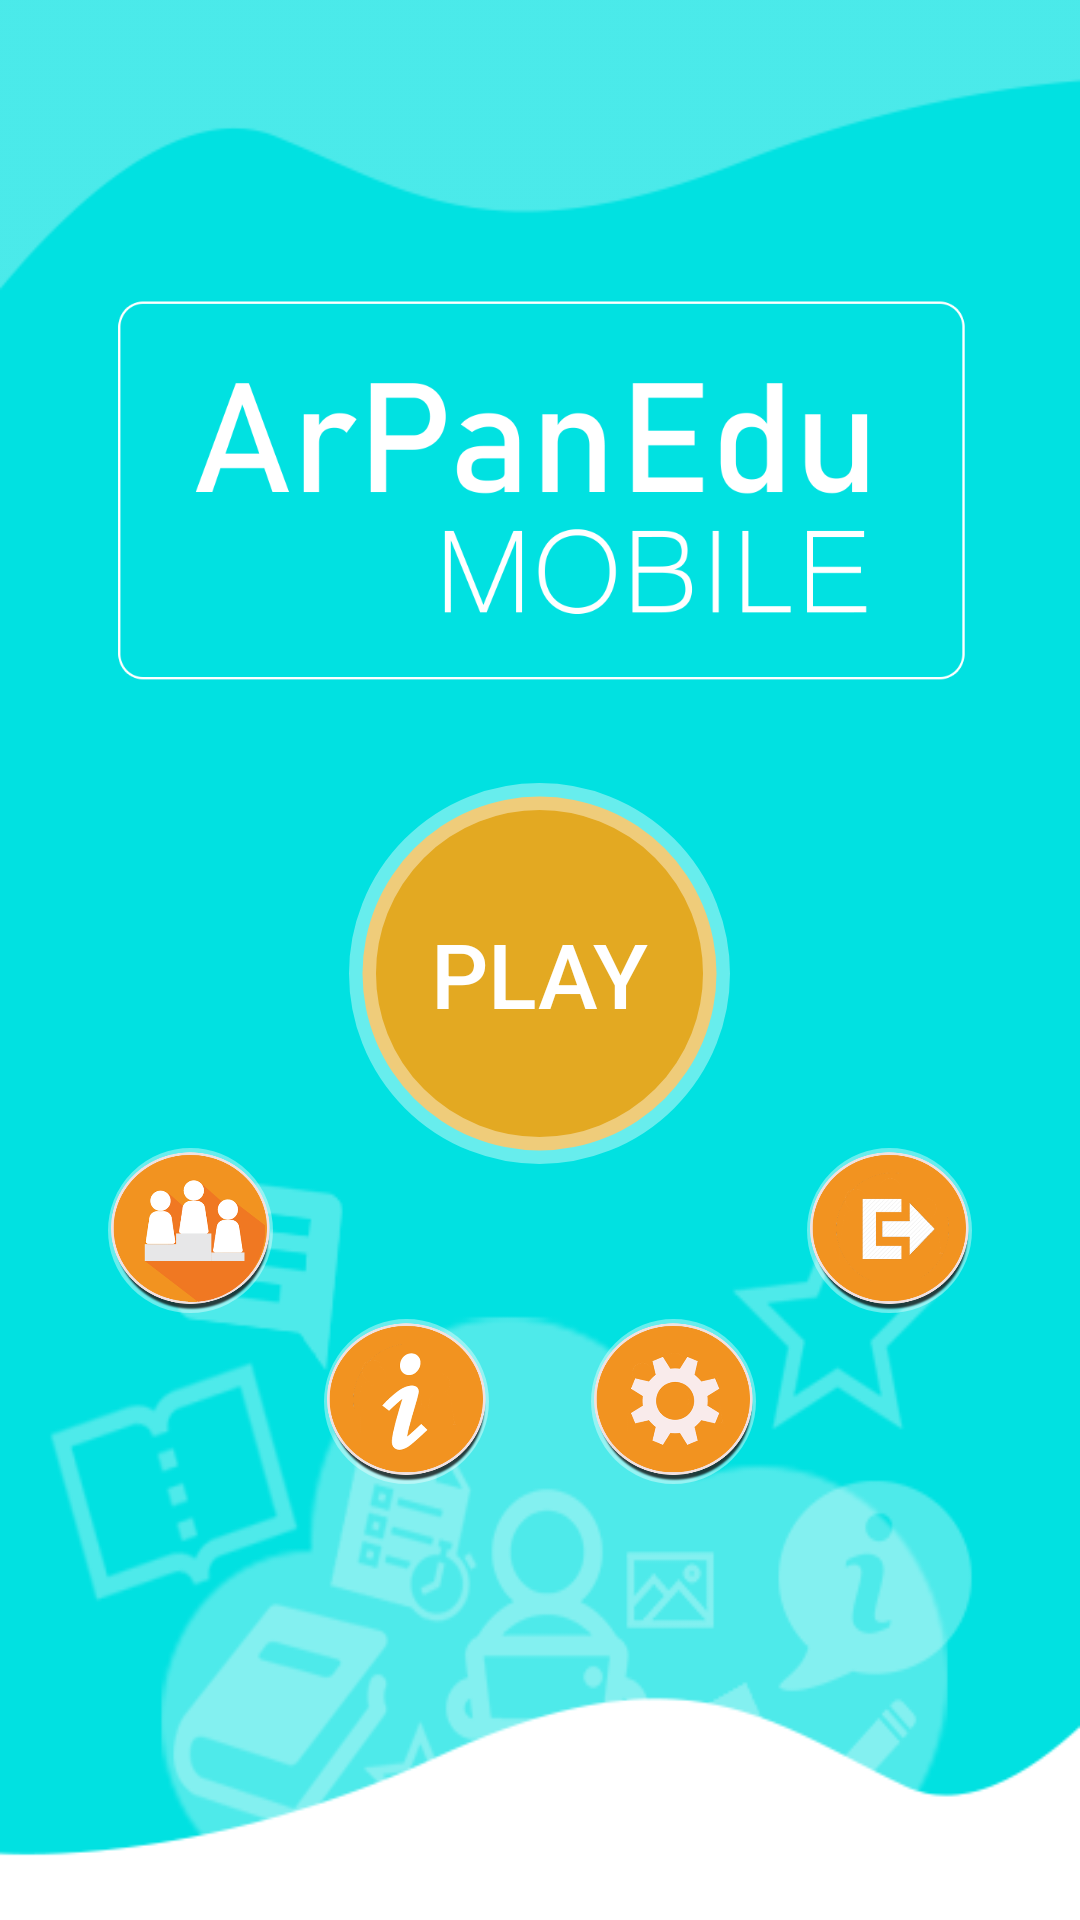

Named icons in this screenshot (1080px x 1920px) and their centers, (x=x, y=y):
instruction: (x=406, y=1401)
rank: (x=190, y=1230)
setting: (x=673, y=1401)
singout: (x=889, y=1230)
